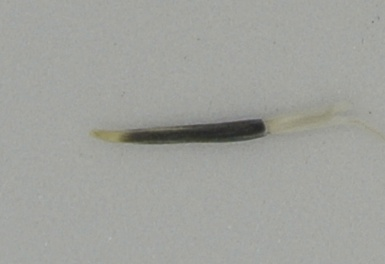เมล็ดดีเรียวยาว: (87, 95, 385, 160)
